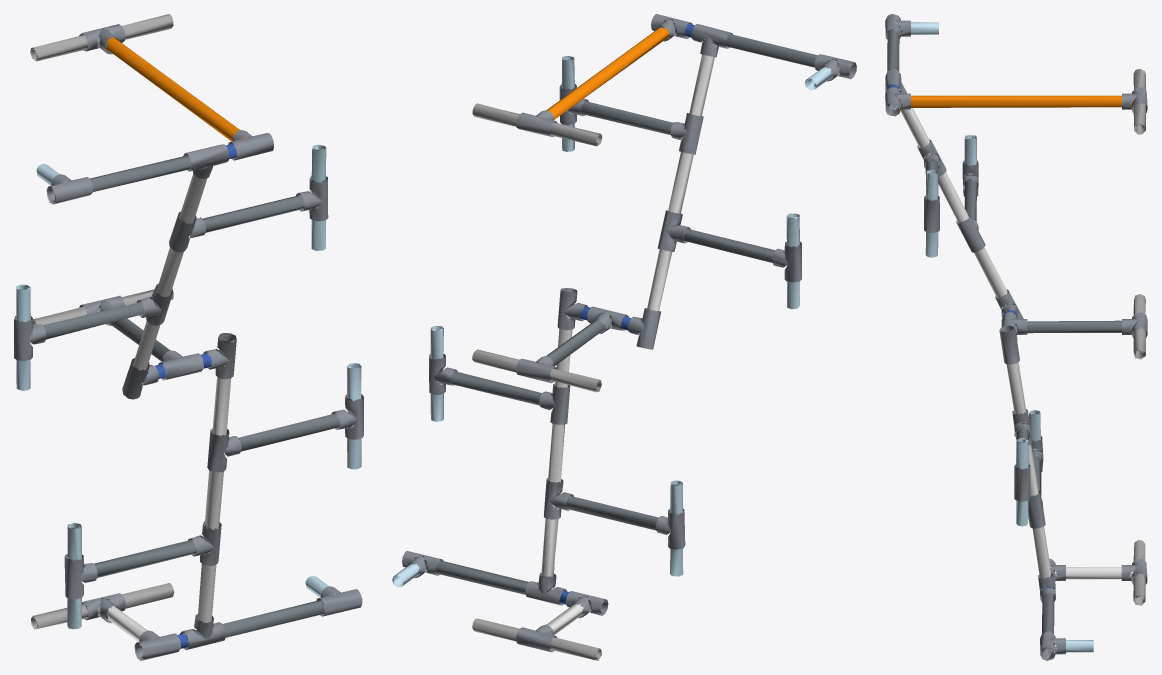
Rendered from bins_v2_struct.obj.
The picture shows the model from 3 angles, left to right: view 1: azimuth 30°, elevation 25°; view 2: azimuth 150°, elevation 25°; view 3: azimuth 270°, elevation 25°; orthographic projection. The views are drawn at different scales.
Visible parts, largest first — view 1: mesh62, mesh35.001, mesh35.005, mesh35, mesh35.006, mesh35.003, mesh35.002, mesh54, mesh54.001, mesh54.003, mesh58.004, mesh7.003 (+24 smaller); view 2: mesh62, mesh35, mesh35.001, mesh35.005, mesh35.006, mesh35.003, mesh35.002, mesh35.004, mesh54.004, mesh54.002, mesh54.006, mesh54 (+3 smaller); view 3: mesh62, mesh35.004, mesh54.005, mesh54.006, mesh54.003, mesh54.004, mesh54.001, mesh7.005, mesh7.015, mesh54.002, mesh7.013, mesh7 (+4 smaller).
Boxes of the visible parts, x1,y1,x2,y2 form: mesh62: [105, 37, 249, 141]; mesh35.001: [83, 537, 205, 577]; mesh35.005: [193, 193, 313, 232]; mesh35: [212, 599, 325, 637]; mesh35.006: [224, 412, 348, 453]; mesh35.003: [90, 155, 191, 191]; mesh35.002: [32, 299, 154, 339]; mesh54: [204, 470, 223, 529]; mesh54.001: [197, 553, 216, 622]; mesh54.003: [212, 367, 231, 435]; mesh58.004: [30, 35, 98, 61]; mesh7.003: [134, 633, 180, 660]; mesh62: [537, 26, 669, 119]; mesh35: [426, 560, 538, 594]; mesh35.001: [566, 496, 670, 532]; mesh35.005: [581, 101, 684, 137]; mesh35.006: [444, 368, 553, 408]; mesh35.003: [725, 34, 827, 67]; mesh35.002: [682, 229, 787, 264]; mesh35.004: [543, 320, 605, 366]; mesh54.004: [668, 152, 693, 225]; mesh54.002: [689, 44, 717, 116]; mesh54.006: [647, 240, 674, 311]; mesh54: [548, 424, 564, 492]; mesh62: [900, 95, 1132, 107]; mesh35.004: [1016, 320, 1132, 333]; mesh54.005: [1055, 567, 1132, 579]; mesh54.006: [974, 247, 1007, 306]; mesh54.003: [1006, 362, 1026, 423]; mesh54.004: [938, 161, 969, 223]; mesh54.001: [1032, 526, 1051, 587]; mesh7.005: [999, 325, 1019, 364]; mesh7.015: [1014, 464, 1030, 501]; mesh54.002: [900, 89, 932, 156]; mesh7.013: [956, 214, 985, 252]; mesh7: [924, 195, 939, 232].
Bounding box in the file's own units: 1 × 1.4 × 0.6875.
